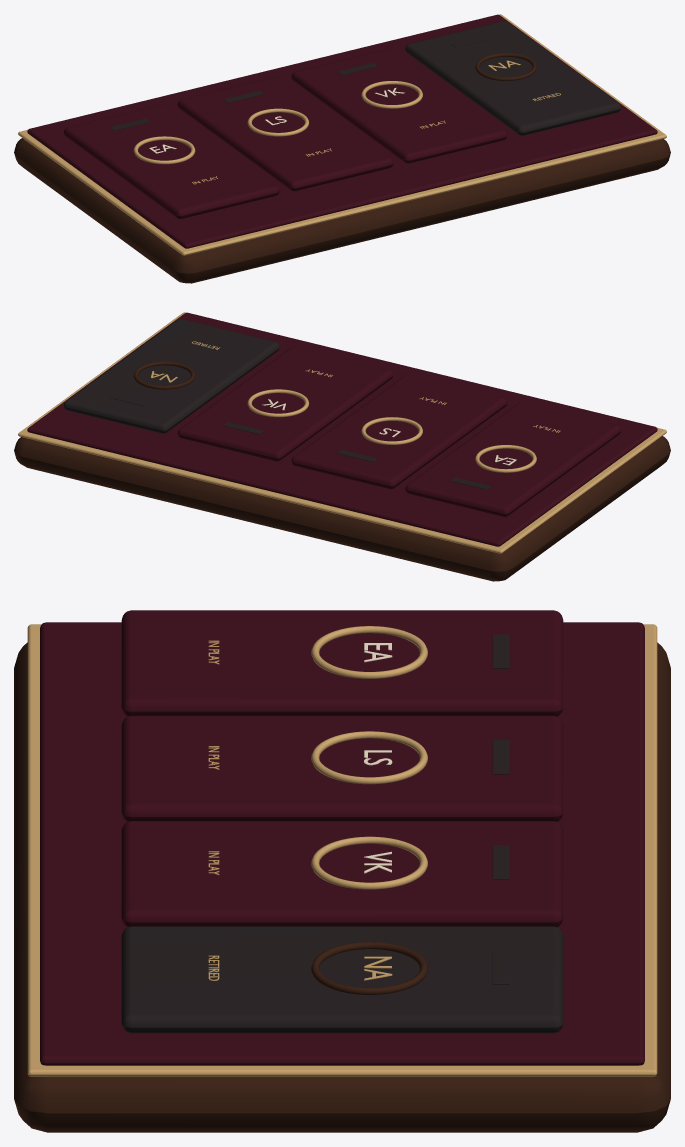
Rendered from elimination.glb.
The picture shows the model from 3 angles, top to bottom: view 1: azimuth 30°, elevation 25°; view 2: azimuth 150°, elevation 25°; view 3: azimuth 270°, elevation 25°; orthographic projection. The views are drawn at different scales.
Parts seen in each view (by area): view 1: felt_inset.004, walnut_base.004, pass_1, pass_2, pass_3, pass_0, brass_inlay.004, pass_seal_0, pass_seal_1, pass_seal_3, pass_seal_2; view 2: felt_inset.004, walnut_base.004, pass_1, pass_2, pass_0, pass_3, brass_inlay.004, pass_seal_3, pass_seal_2, pass_seal_0, pass_seal_1; view 3: felt_inset.004, walnut_base.004, pass_3, pass_1, pass_2, pass_0, brass_inlay.004, pass_seal_1, pass_seal_2, pass_seal_0, pass_seal_3.
Part boxes in pixels (bbox=[...]): felt_inset.004: bbox=[27, 14, 657, 248]; walnut_base.004: bbox=[14, 138, 670, 283]; pass_1: bbox=[177, 76, 393, 191]; pass_2: bbox=[291, 48, 507, 163]; pass_3: bbox=[405, 21, 621, 135]; pass_0: bbox=[63, 104, 279, 218]; brass_inlay.004: bbox=[18, 14, 666, 255]; pass_seal_0: bbox=[133, 136, 195, 164]; pass_seal_1: bbox=[247, 108, 309, 136]; pass_seal_3: bbox=[475, 53, 536, 80]; pass_seal_2: bbox=[361, 81, 422, 108]; felt_inset.004: bbox=[27, 312, 657, 546]; walnut_base.004: bbox=[14, 436, 670, 581]; pass_1: bbox=[291, 374, 507, 489]; pass_2: bbox=[177, 346, 393, 461]; pass_0: bbox=[405, 402, 621, 516]; pass_3: bbox=[63, 319, 279, 433]; brass_inlay.004: bbox=[18, 312, 666, 553]; pass_seal_3: bbox=[133, 361, 195, 389]; pass_seal_2: bbox=[247, 389, 309, 417]; pass_seal_0: bbox=[475, 445, 536, 472]; pass_seal_1: bbox=[361, 417, 422, 444]; felt_inset.004: bbox=[40, 622, 644, 1065]; walnut_base.004: bbox=[14, 642, 670, 1132]; pass_3: bbox=[121, 926, 563, 1033]; pass_1: bbox=[121, 715, 563, 821]; pass_2: bbox=[121, 821, 563, 926]; pass_0: bbox=[121, 610, 563, 716]; brass_inlay.004: bbox=[27, 624, 657, 1076]; pass_seal_1: bbox=[311, 731, 427, 784]; pass_seal_2: bbox=[311, 836, 427, 889]; pass_seal_0: bbox=[311, 626, 427, 678]; pass_seal_3: bbox=[311, 942, 427, 994].
Bounding box in the file's own units: 4.8 × 0.522 × 2.9.
